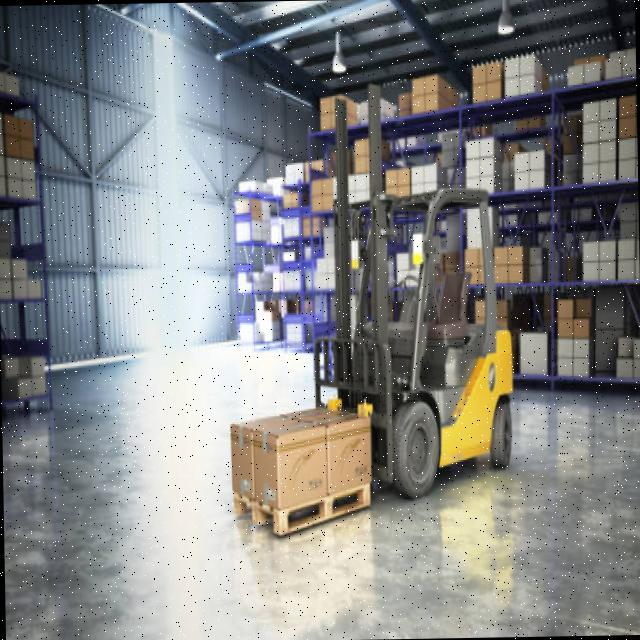Wooden-Pallets: (229, 474, 381, 541)
